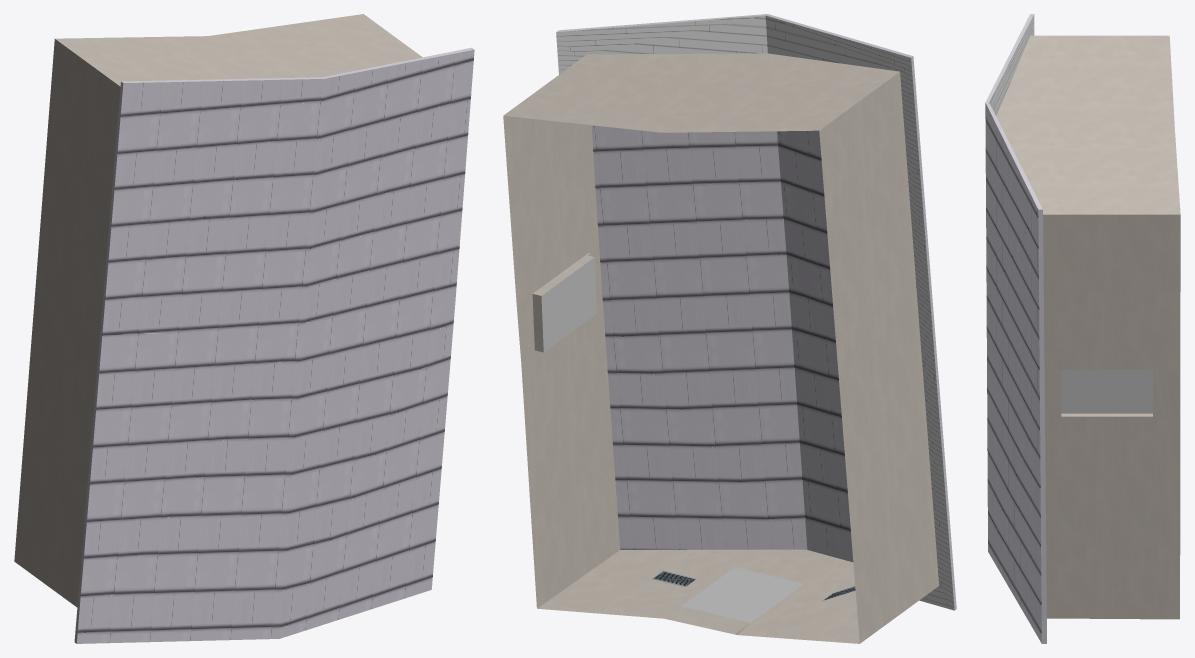
Rendered from Munga_5a-origo.obj.
3 views of the same model, side by side, from view 1: azimuth 30°, elevation 25°; view 2: azimuth 150°, elevation 25°; view 3: azimuth 270°, elevation 25° (orthographic). The views are drawn at different scales.
Visible parts, largest first — view 1: Munga_5a; view 2: Munga_5a; view 3: Munga_5a.
Part boxes in pixels (x1=…): Munga_5a: x1=14, y1=14, x2=474, y2=643; Munga_5a: x1=503, y1=14, x2=956, y2=643; Munga_5a: x1=985, y1=14, x2=1180, y2=643.
Bounding box in the file's own units: 11.06 × 15.5 × 5.49.
